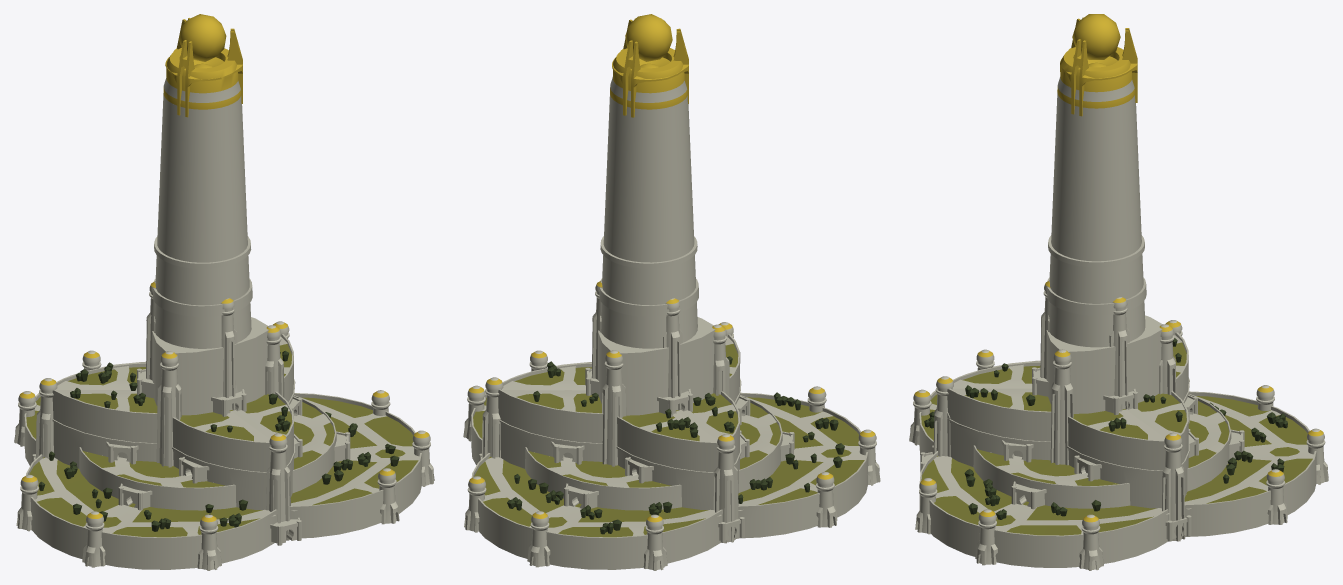
Rendered from hyperstructure-finished-transformed.glb.
3 views of the same model, side by side, from view 1: azimuth 30°, elevation 25°; view 2: azimuth 150°, elevation 25°; view 3: azimuth 270°, elevation 25° (orthographic).
Visible parts, largest first — view 1: tower_finished; view 2: tower_finished; view 3: tower_finished.
Part boxes in pixels (x1,y1,x2,y2): tower_finished: (14,14,434,570); tower_finished: (463,14,880,570); tower_finished: (909,14,1328,570).
Bounding box in the file's own units: 3.18 × 3.8 × 3.11.
